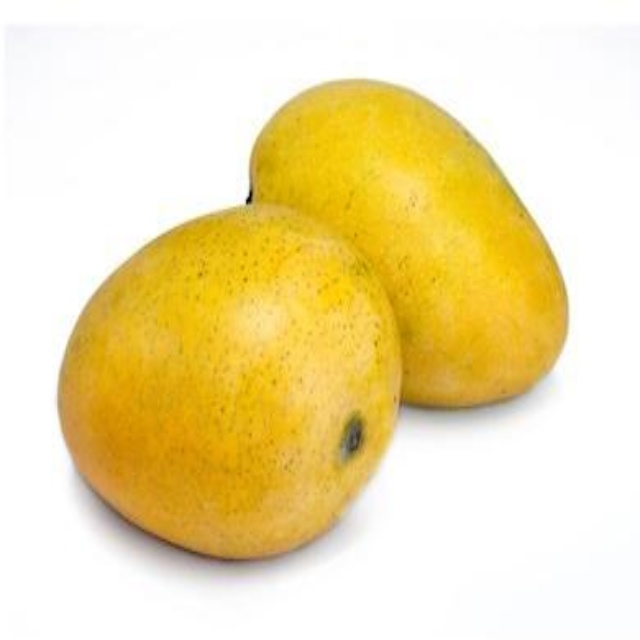mango: (60, 207, 409, 556), (231, 73, 571, 408)
